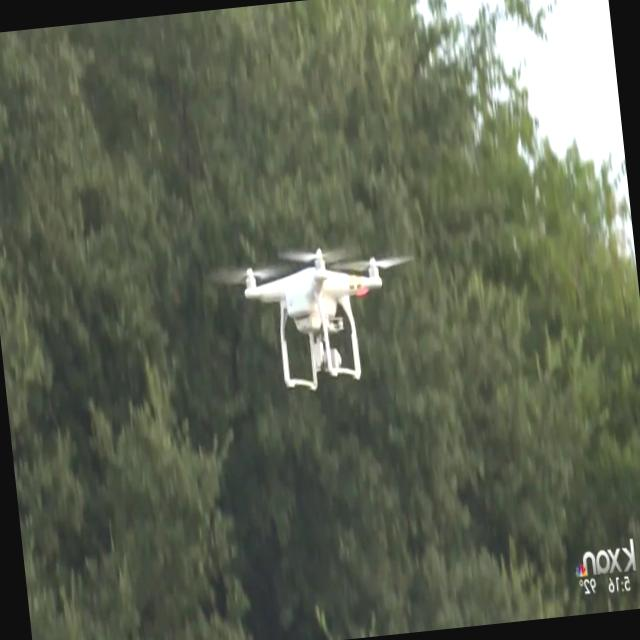drone: (232, 235, 420, 399)
